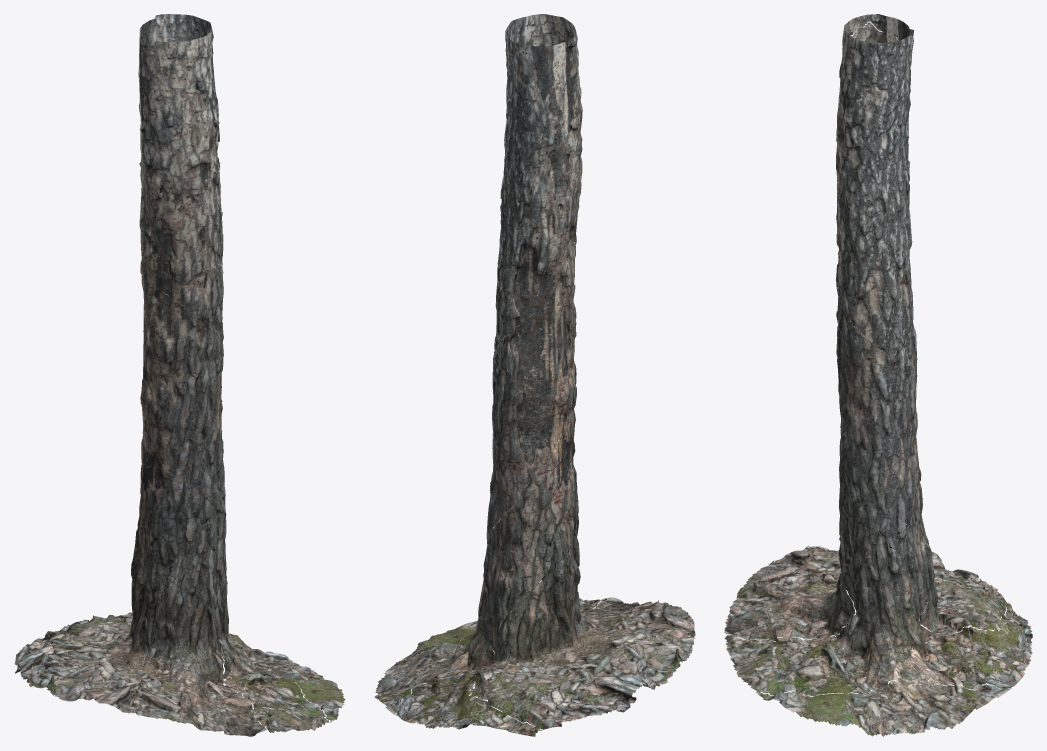
The picture shows the model from 3 angles, left to right: view 1: azimuth 30°, elevation 25°; view 2: azimuth 150°, elevation 25°; view 3: azimuth 270°, elevation 25°; orthographic projection. The views are drawn at different scales.
Visible parts, largest first — view 1: pine-high_0; view 2: pine-high_0; view 3: pine-high_0.
Boxes of the visible parts, x1=… form: pine-high_0: x1=14, y1=14, x2=345, y2=736; pine-high_0: x1=374, y1=14, x2=695, y2=736; pine-high_0: x1=724, y1=14, x2=1032, y2=736.
Size of the model in its own units: 4.27 by 9.78 by 4.26.
1 material, 1 textured.
